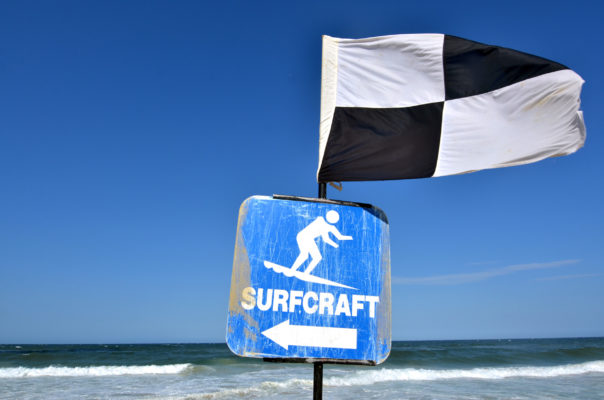Flag: (316, 32, 586, 187)
